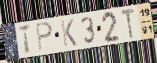2: (101, 11, 121, 45)
3: (80, 15, 97, 44)
K: (60, 18, 78, 48)
P: (35, 21, 55, 53)
T: (120, 7, 137, 40), (17, 23, 32, 56)
